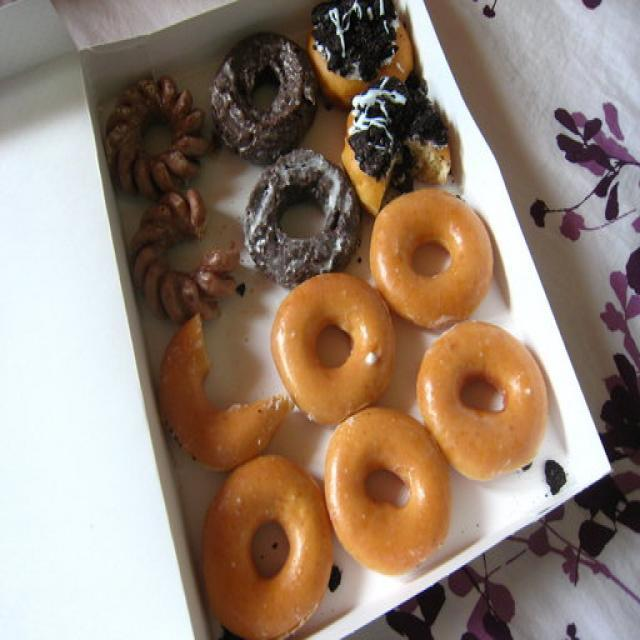Donuts: (98, 2, 549, 637)
